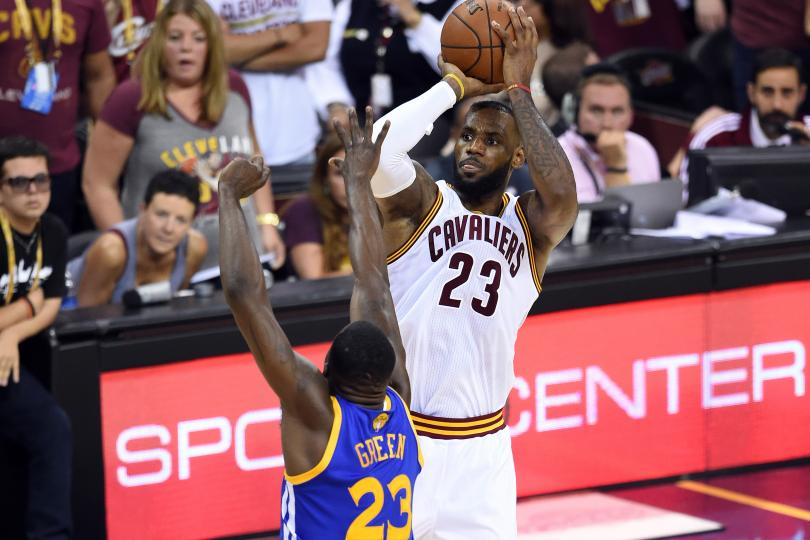basketball: (440, 1, 526, 83)
